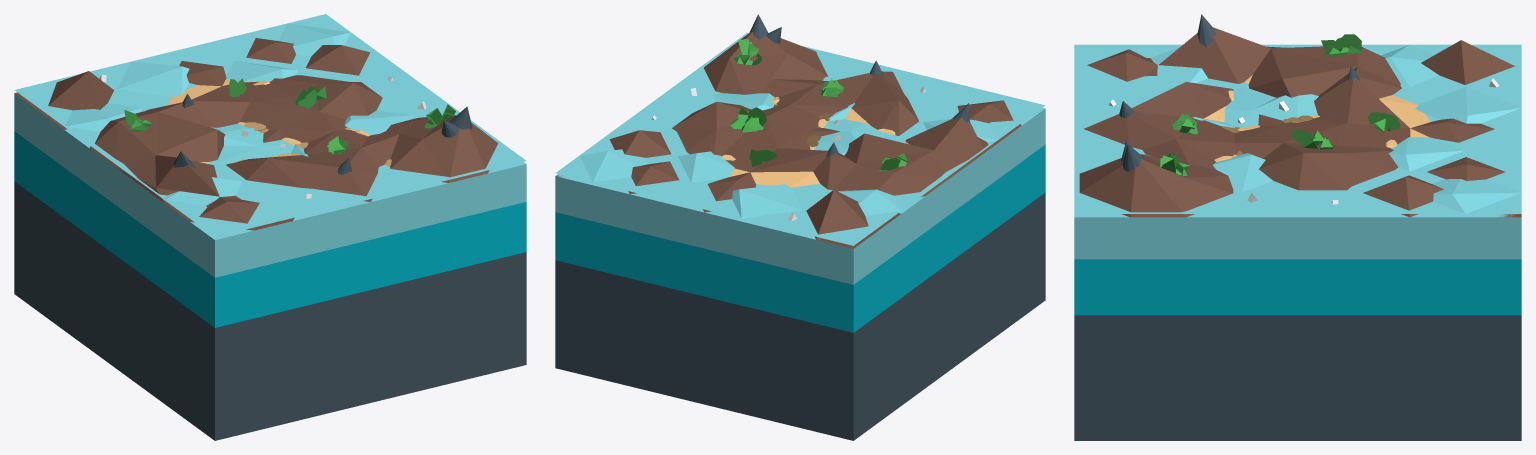
Rendered from scene_a5ZxiIp6ey.glb.
The picture shows the model from 3 angles, left to right: view 1: azimuth 30°, elevation 25°; view 2: azimuth 150°, elevation 25°; view 3: azimuth 270°, elevation 25°; orthographic projection. The views are drawn at different scales.
Parts seen in each view (by area): view 1: Node; view 2: Node; view 3: Node.
Part boxes in pixels (x1,y1,x2,y2): Node: [14, 14, 526, 440]; Node: [555, 14, 1045, 440]; Node: [1074, 14, 1521, 440].
Bounding box in the file's own units: 0.26 × 0.1989 × 0.29.
